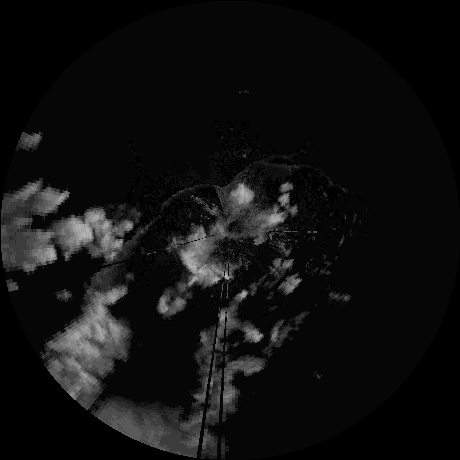frontgust: (140, 181, 223, 229), (227, 157, 301, 184)
